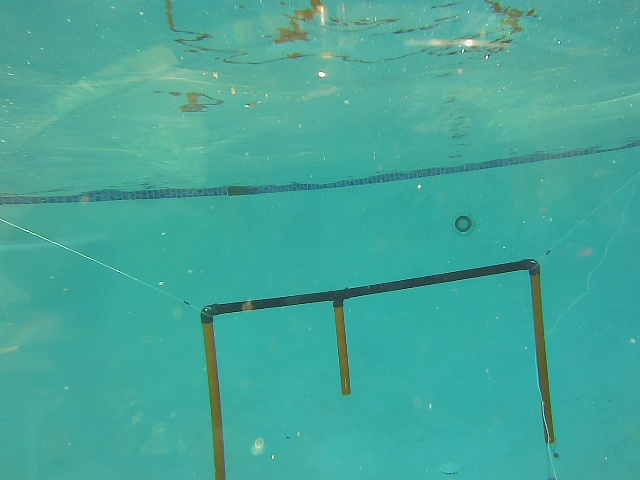Gate: (527, 271, 557, 446), (201, 318, 228, 480), (331, 301, 355, 402)
